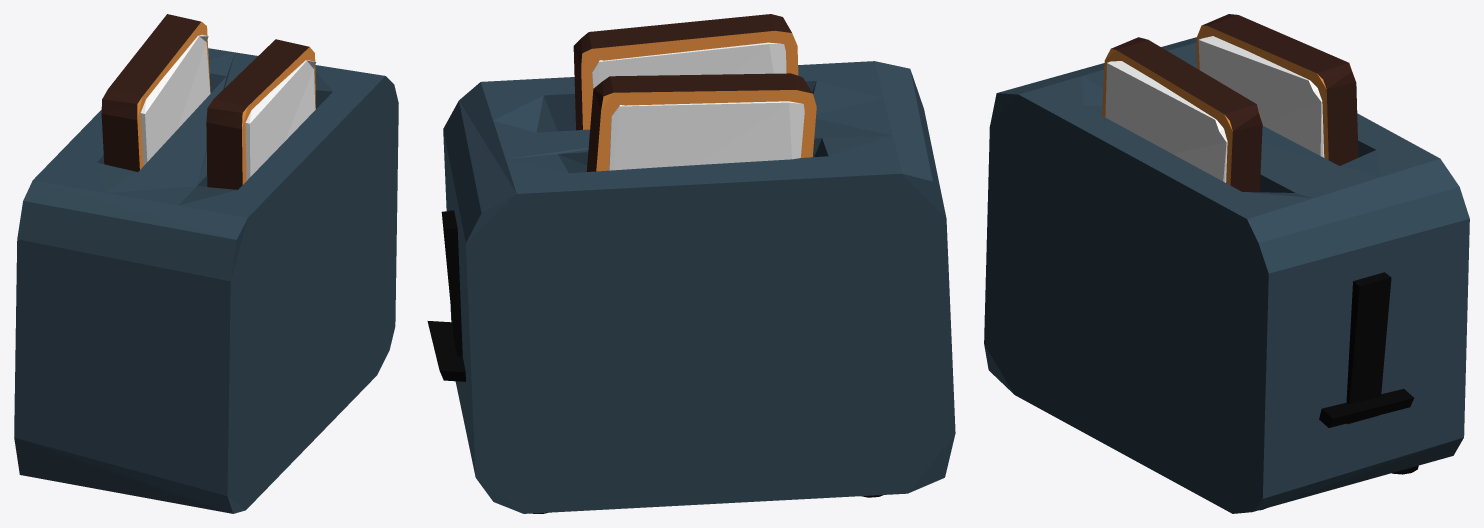
The model's file is Toaster.fbx.
The picture shows the model from 3 angles, left to right: view 1: azimuth 30°, elevation 25°; view 2: azimuth 150°, elevation 25°; view 3: azimuth 270°, elevation 25°; orthographic projection. The views are drawn at different scales.
Parts seen in each view (by area): view 1: Node-Mesh, Node-Mesh_1, Node-Mesh_3, Node-Mesh_2; view 2: Node-Mesh, Node-Mesh_3, Node-Mesh_1, Node-Mesh_2, Node-Mesh_4; view 3: Node-Mesh, Node-Mesh_3, Node-Mesh_1, Node-Mesh_4, Node-Mesh_2.
Boxes of the visible parts, x1,y1,x2,y2 form: Node-Mesh: [14, 48, 398, 513]; Node-Mesh_1: [101, 14, 309, 189]; Node-Mesh_3: [140, 34, 316, 180]; Node-Mesh_2: [137, 22, 315, 184]; Node-Mesh: [443, 61, 955, 513]; Node-Mesh_3: [592, 42, 804, 170]; Node-Mesh_1: [573, 14, 812, 171]; Node-Mesh_2: [581, 31, 816, 171]; Node-Mesh_4: [427, 210, 883, 513]; Node-Mesh: [984, 37, 1469, 513]; Node-Mesh_3: [1105, 36, 1324, 182]; Node-Mesh_1: [1111, 14, 1358, 192]; Node-Mesh_4: [1260, 272, 1418, 510]; Node-Mesh_2: [1102, 25, 1353, 185].
Bounding box in the file's own units: 0.6819 × 0.5636 × 0.6488.
